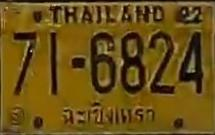1: (50, 31, 58, 95)
2: (148, 31, 174, 94)
4: (178, 31, 202, 93)
6: (90, 32, 116, 92)
7: (13, 31, 36, 95)
8: (120, 32, 145, 92)
CCO: (60, 100, 160, 125)
